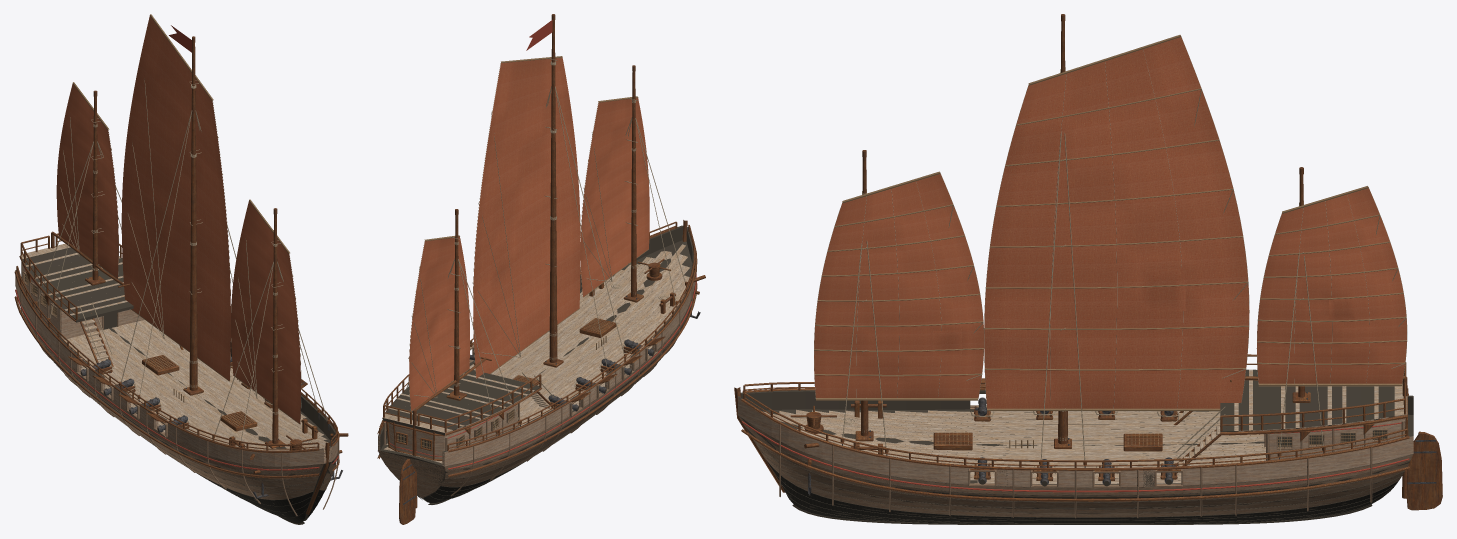
The model's file is fuchuan-lod1.glb.
The picture shows the model from 3 angles, left to right: view 1: azimuth 30°, elevation 25°; view 2: azimuth 150°, elevation 25°; view 3: azimuth 270°, elevation 25°; orthographic projection. The views are drawn at different scales.
Parts seen in each view (by area): view 1: sail_1, hull, deck, sail_0, sail_2, shadow_deck, deck_fittings, bulwark_rails, mast_timber_1, shadow_hull, sterncastle, mast_timber_0 (+6 smaller); view 2: sail_1, deck, hull, sail_0, sail_2, shadow_deck, deck_fittings, shadow_hull, bulwark_rails, mast_timber_1, mast_timber_0, stern_transom (+7 smaller); view 3: sail_1, hull, sail_0, sail_2, deck, shadow_hull, shadow_deck, bulwark_rails, deck_fittings, rudder_blade, sterncastle, rigging_1.
Part boxes in pixels (<box>): sail_1: <box>121,14,231,381</box>; hull: <box>14,270,339,524</box>; deck: <box>19,243,329,450</box>; sail_0: <box>231,199,301,424</box>; sail_2: <box>56,82,118,278</box>; shadow_deck: <box>22,247,133,322</box>; deck_fittings: <box>21,262,348,498</box>; bulwark_rails: <box>16,233,337,450</box>; mast_timber_1: <box>189,43,197,390</box>; shadow_hull: <box>15,270,335,521</box>; sterncastle: <box>23,266,144,339</box>; mast_timber_0: <box>272,214,278,443</box>; sail_1: <box>472,56,580,378</box>; deck: <box>382,244,689,463</box>; hull: <box>377,220,697,504</box>; sail_0: <box>580,96,649,297</box>; sail_2: <box>408,235,469,411</box>; shadow_deck: <box>383,369,540,435</box>; deck_fittings: <box>383,259,705,460</box>; shadow_hull: <box>378,225,693,502</box>; bulwark_rails: <box>379,221,695,450</box>; mast_timber_1: <box>549,20,557,362</box>; mast_timber_0: <box>631,71,636,297</box>; stern_transom: <box>388,423,444,459</box>; sail_1: <box>984,35,1249,411</box>; hull: <box>734,387,1413,524</box>; sail_0: <box>814,171,984,400</box>; sail_2: <box>1256,186,1407,386</box>; deck: <box>763,369,1407,483</box>; shadow_hull: <box>738,390,1413,523</box>; shadow_deck: <box>1220,369,1394,432</box>; bulwark_rails: <box>743,354,1408,467</box>; deck_fittings: <box>790,385,1407,494</box>; rudder_blade: <box>1406,431,1442,510</box>; sterncastle: <box>1266,418,1404,460</box>; rigging_1: <box>1039,133,1086,473</box>.
Bounding box in the file's own units: 10.4 × 26.66 × 33.57.
Materials: 13 (8 with a texture image).
